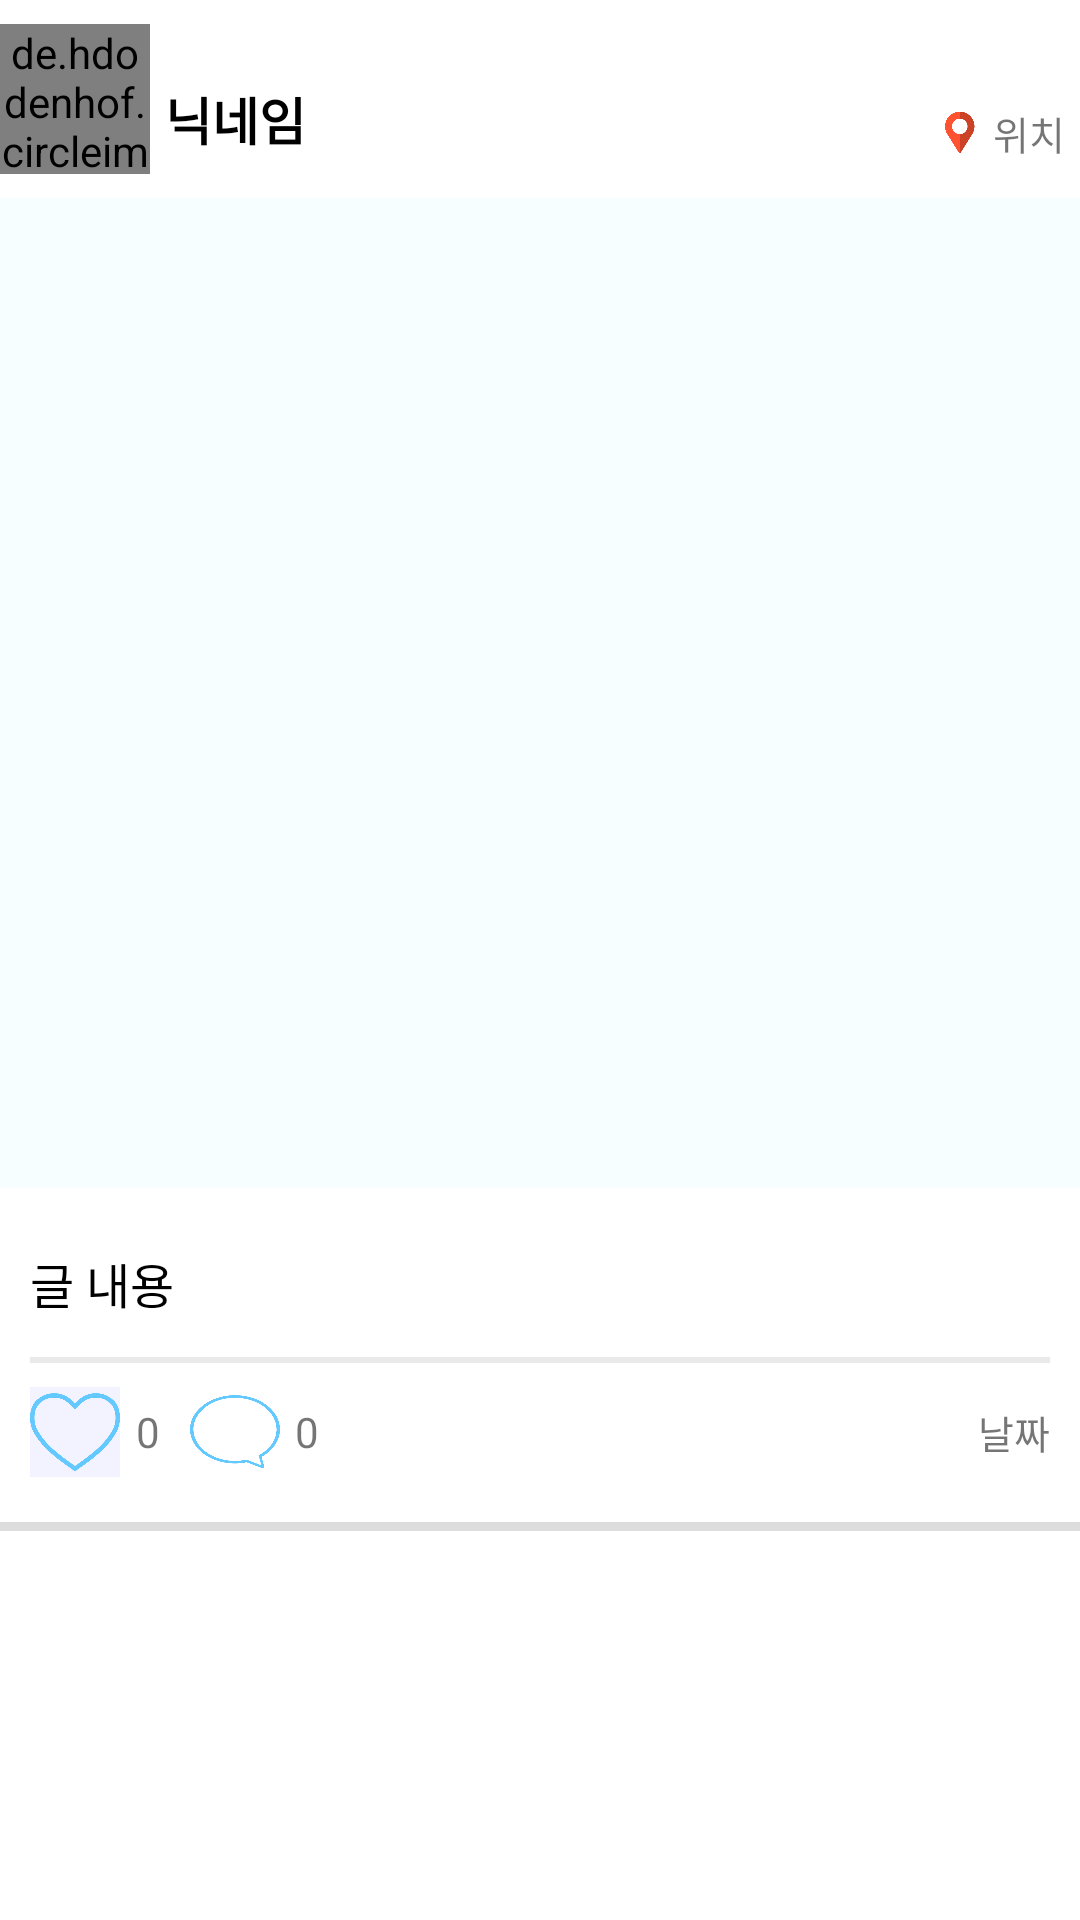

Locate icon controls on the screen. Image size 1080*1920, boxes as bbox=(x1, y1, x2, y2).
comment: bbox=(190, 1395, 280, 1468)
heart: bbox=(30, 1387, 120, 1477)
marker: bbox=(945, 112, 975, 153)
